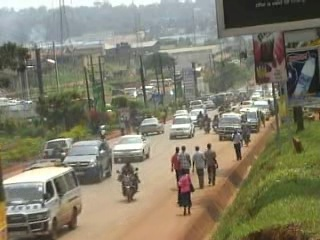Car: (60, 136, 115, 182), (110, 131, 152, 165), (166, 115, 195, 141), (137, 114, 164, 136), (189, 106, 208, 127), (171, 107, 191, 122), (204, 100, 215, 111)
Motorcycle: (112, 168, 143, 202), (195, 112, 204, 132), (202, 120, 212, 135), (210, 118, 218, 132)
